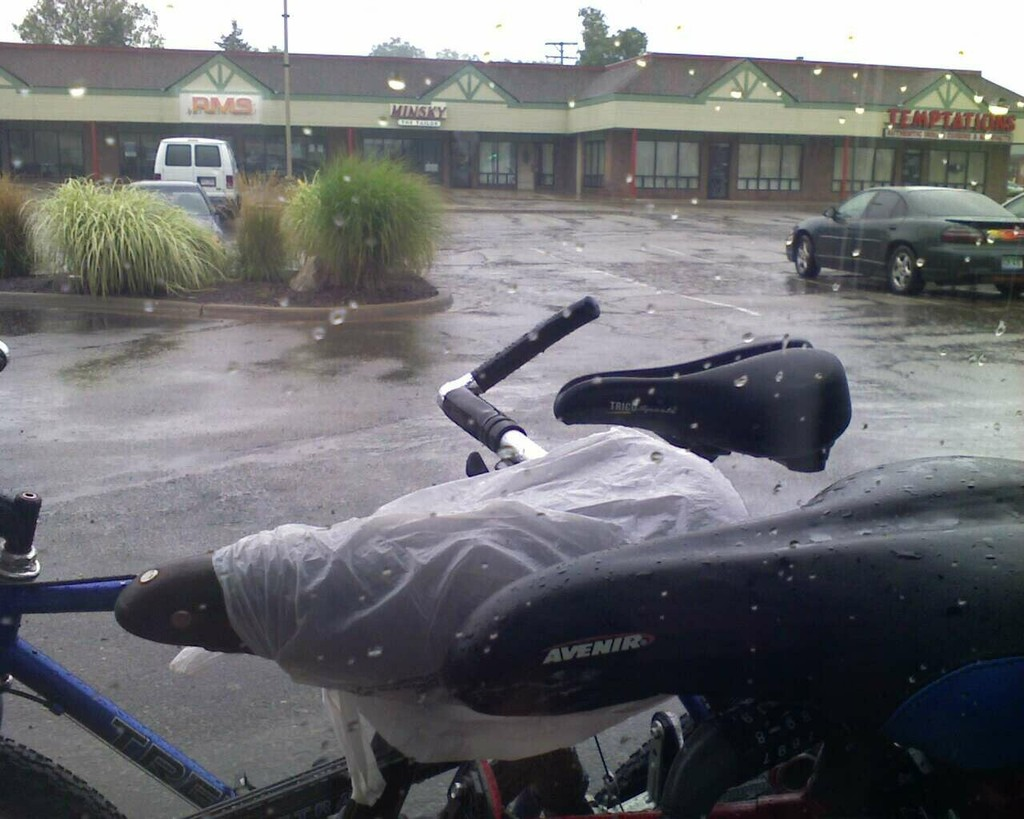Car: (771, 175, 1024, 296), (147, 131, 242, 222)
